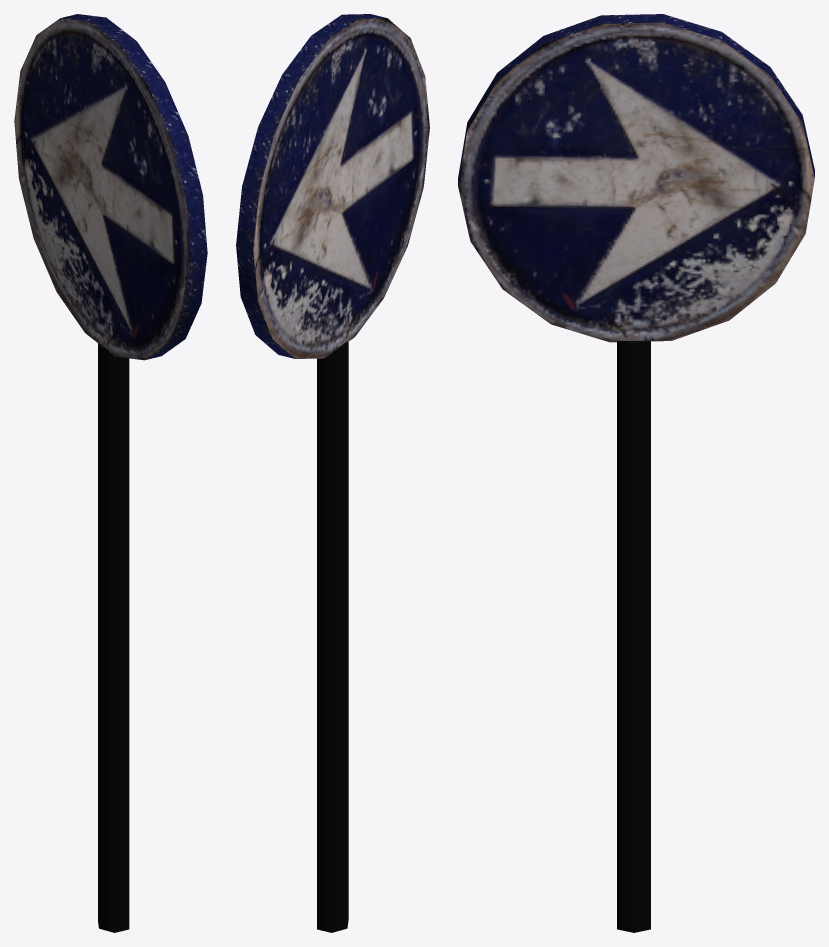
File: traffic sign3.FBX
The picture shows the model from 3 angles, left to right: view 1: azimuth 30°, elevation 25°; view 2: azimuth 150°, elevation 25°; view 3: azimuth 270°, elevation 25°; orthographic projection.
Parts seen in each view (by area): view 1: Cylinder002; view 2: Cylinder002; view 3: Cylinder002.
Boxes of the visible parts, bbox=[...] form: Cylinder002: bbox=[14, 14, 207, 932]; Cylinder002: bbox=[236, 14, 429, 932]; Cylinder002: bbox=[458, 14, 814, 932].
Bounding box in the file's own units: 0.64 × 18.8 × 6.7.
